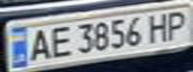3: (72, 20, 96, 55)
5: (109, 16, 130, 51)
6: (124, 14, 148, 47)
8: (90, 19, 112, 52)
A: (24, 26, 54, 63)
E: (45, 24, 72, 60)
H: (145, 11, 175, 44)
P: (160, 8, 193, 41)
